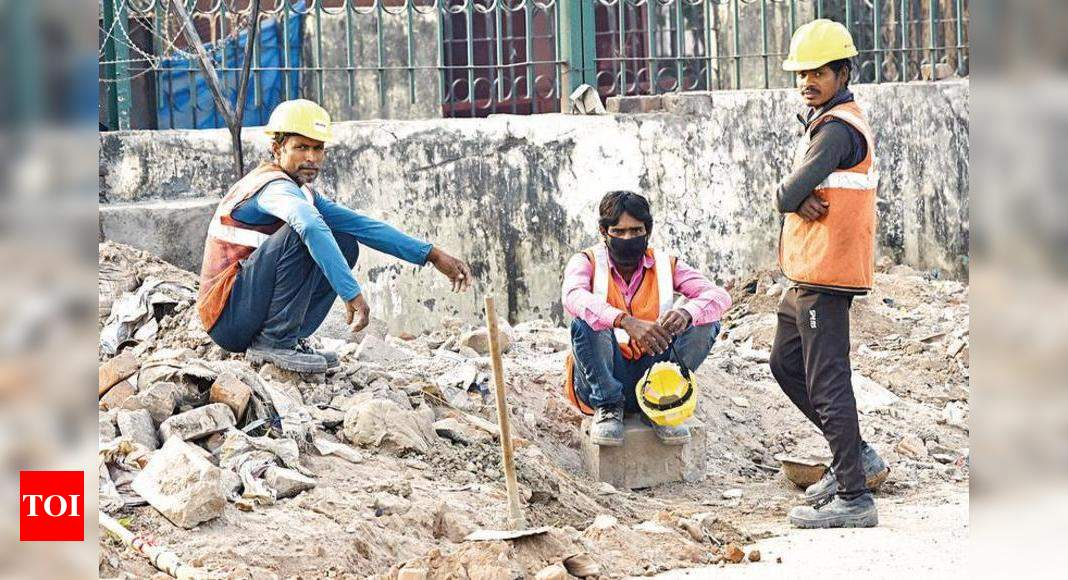cap: (624, 357, 711, 424), (773, 15, 866, 76), (250, 93, 335, 152)
jacket: (566, 235, 719, 408), (781, 100, 886, 312), (181, 157, 295, 345)
